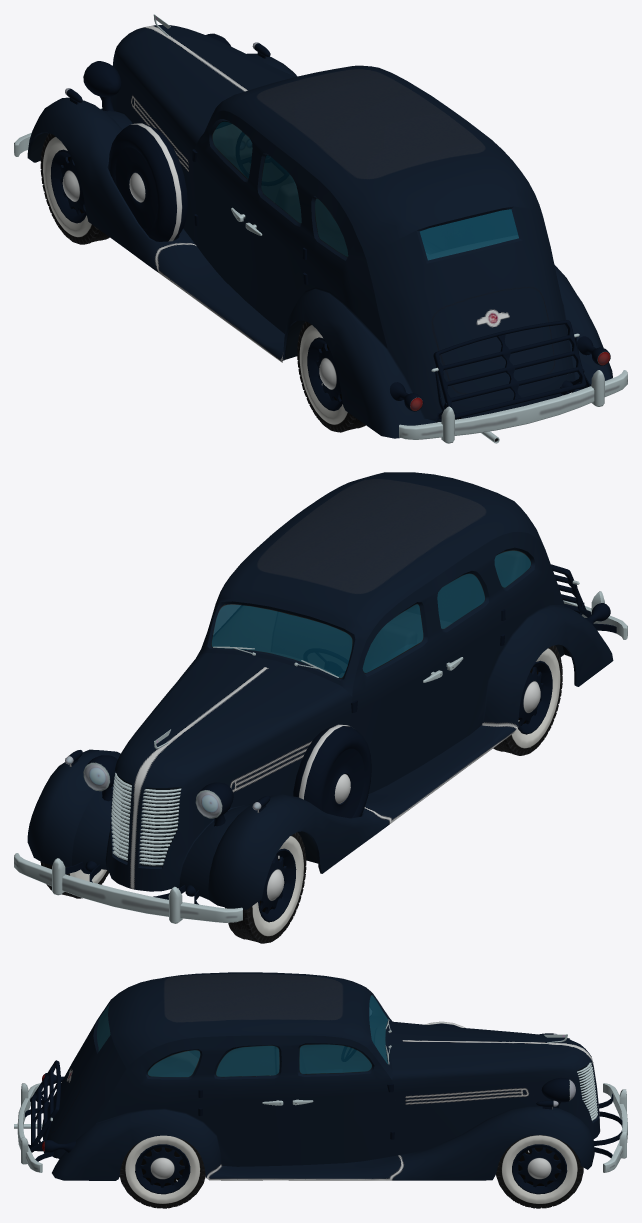
3 views of the same model, one above another, from view 1: azimuth 30°, elevation 25°; view 2: azimuth 150°, elevation 25°; view 3: azimuth 270°, elevation 25° (orthographic). The views are drawn at different scales.
Visible parts, largest first — view 1: base_low, wheels_low, details_low, glass_low, interior_low; view 2: base_low, wheels_low, details_low, glass_low; view 3: base_low, wheels_low, details_low, glass_low.
Part boxes in pixels (x1=…): base_low: x1=27, y1=25, x2=612, y2=438; wheels_low: x1=40, y1=123, x2=365, y2=432; details_low: x1=14, y1=14, x2=627, y2=443; glass_low: x1=65, y1=42, x2=610, y2=410; interior_low: x1=29, y1=133, x2=387, y2=437; base_low: x1=27, y1=472, x2=613, y2=909; wheels_low: x1=40, y1=645, x2=562, y2=943; details_low: x1=14, y1=564, x2=627, y2=923; glass_low: x1=65, y1=550, x2=531, y2=817; base_low: x1=42, y1=972, x2=600, y2=1180; wheels_low: x1=119, y1=1021, x2=583, y2=1208; details_low: x1=14, y1=1019, x2=627, y2=1172; glass_low: x1=42, y1=994, x2=575, y2=1151.
Size of the model in its own units: 1.91 by 1.89 by 5.86.
Materials: 6 (6 with a texture image).
